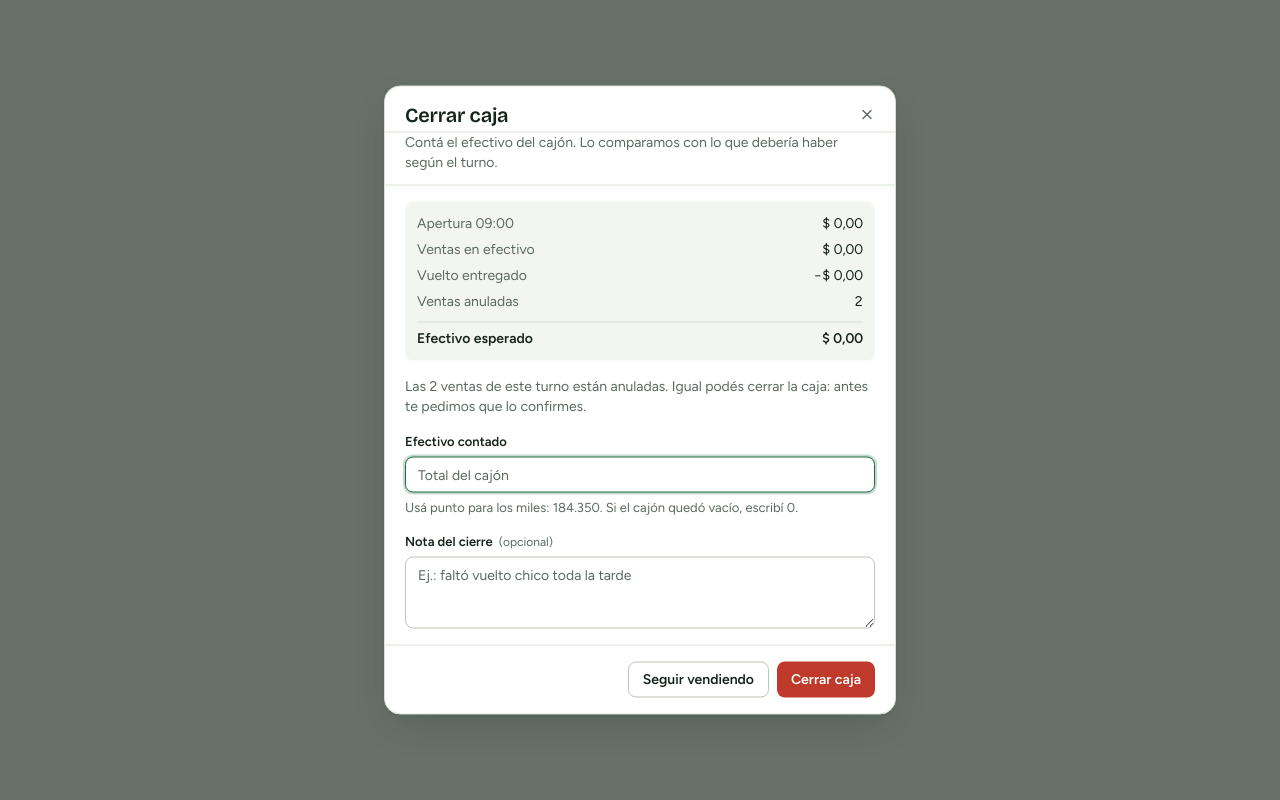
Test: CloseSessionDialog › si todas las ventas del turno están anuladas también es un cierre sin ventas
This screenshot has width=1280, height=800.
Expected: the text "Las 2 ventas de este turno están anuladas." is shown, [405, 378, 668, 394]
Step 1. Type "100" into the field labelled "Efectivo contado" → [640, 474], box [405, 456, 875, 492]
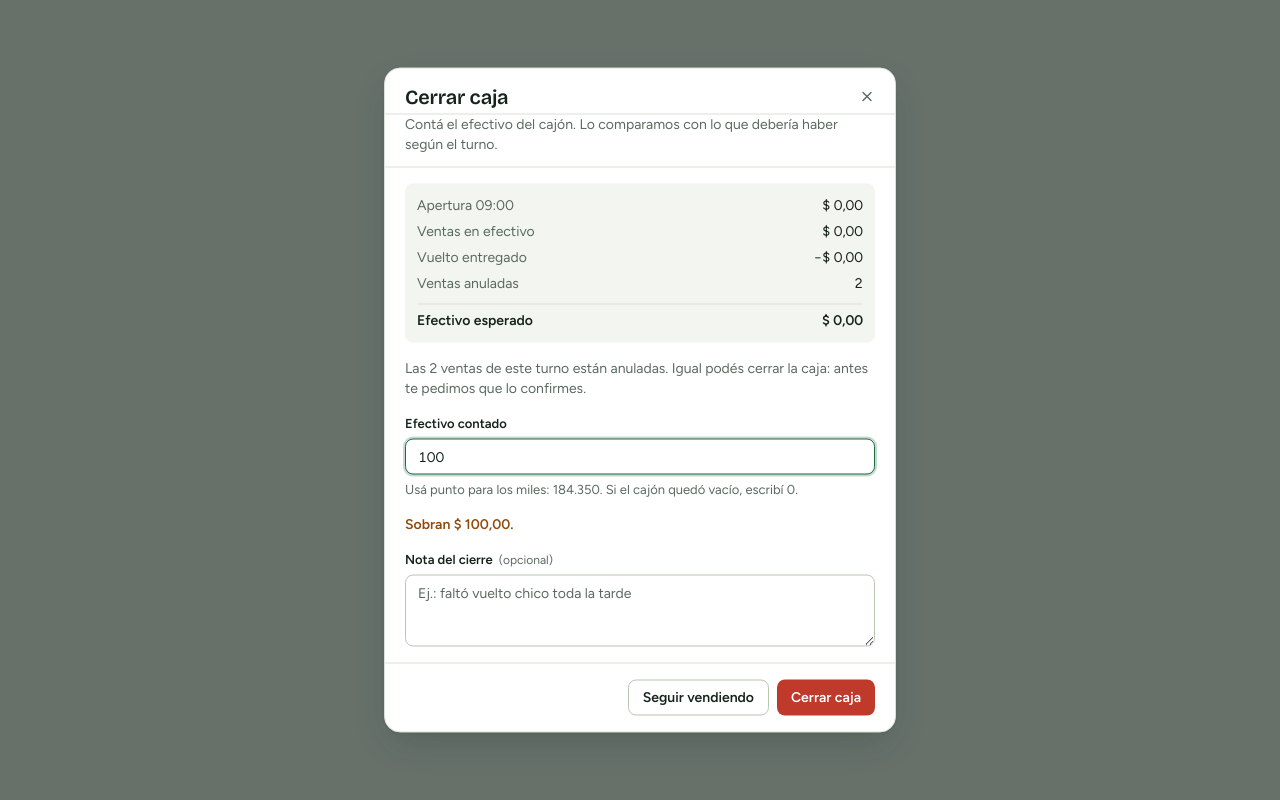
Step 2. Click the button "Cerrar caja" → [826, 698], box [777, 680, 875, 716]
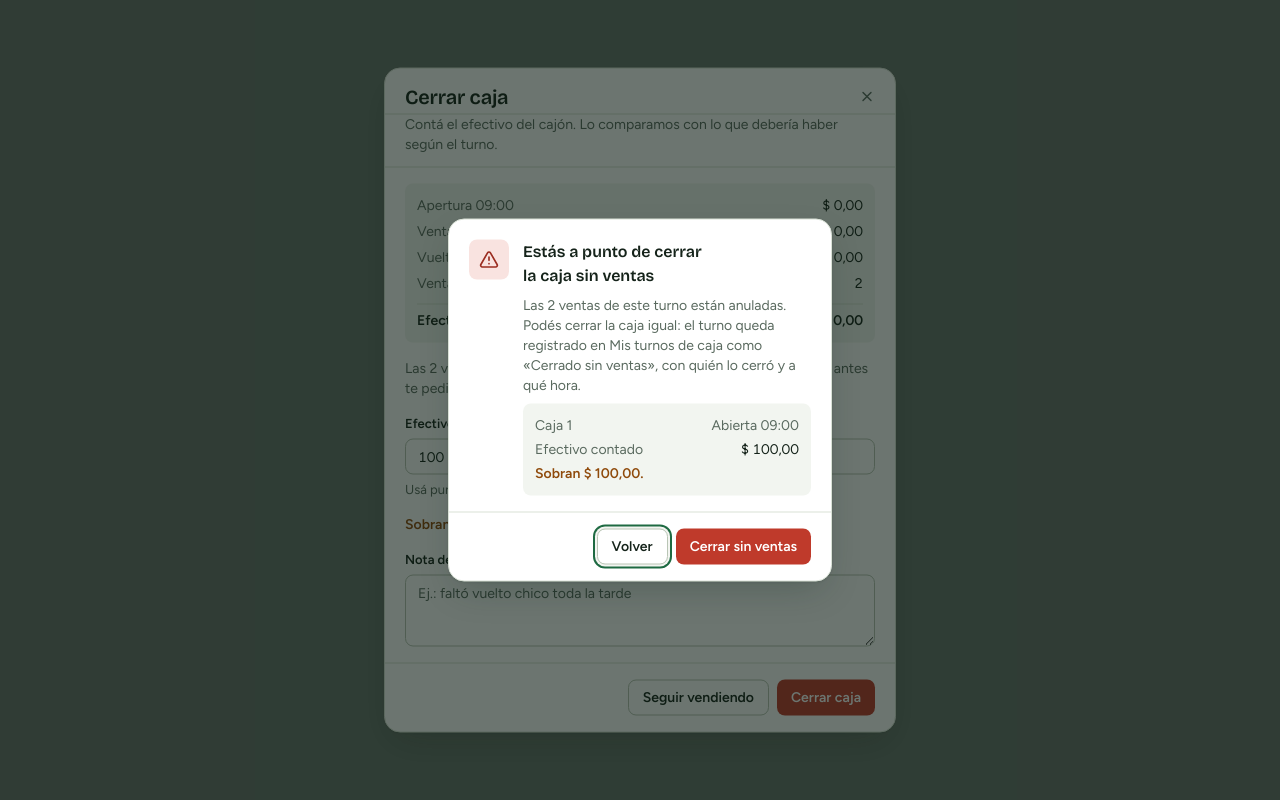
Now the dialog "Estás a punto de cerrar la caja sin ventas" shows "Las 2 ventas de este turno están anuladas.", box [523, 296, 796, 394]
Now the dialog "Estás a punto de cerrar la caja sin ventas" shows "Sobran $ 100,00.", box [535, 464, 644, 482]
